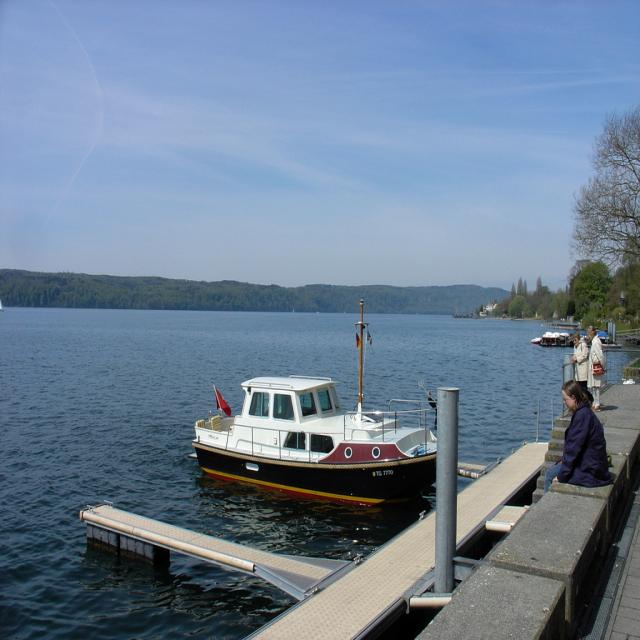Boat: (192, 327, 458, 518)
